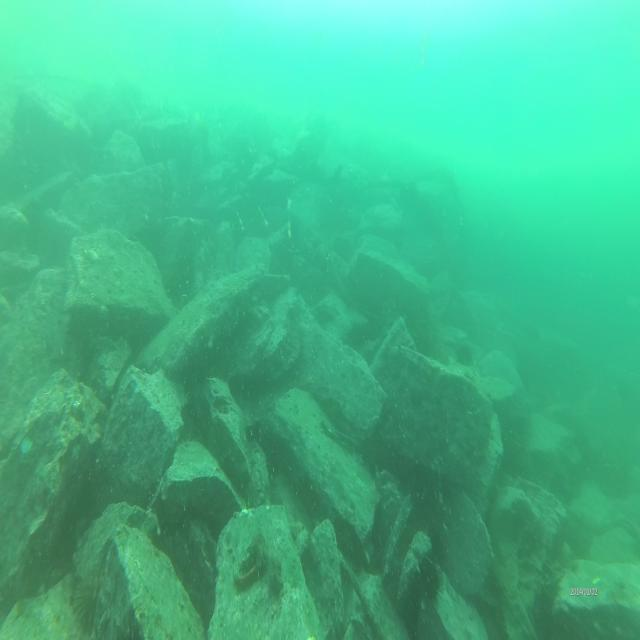echinus: (69, 586, 103, 624), (416, 560, 443, 602)
